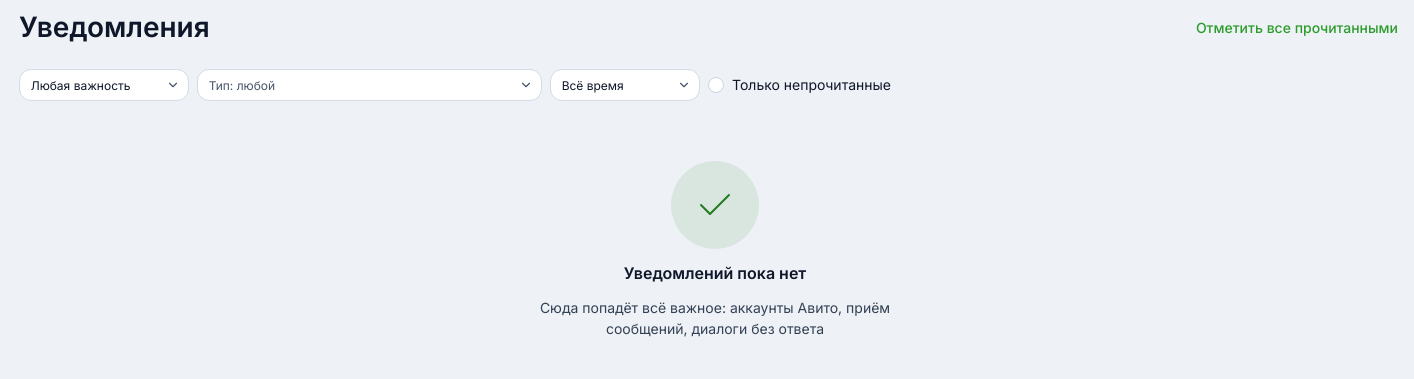
Журнал помнит фильтры (NOTIF-04) › выбор фильтра попадает в адрес — ссылку можно послать коллеге
Click the field named "Важность" at {"x": 104, "y": 85}, box [19,69,189,101]
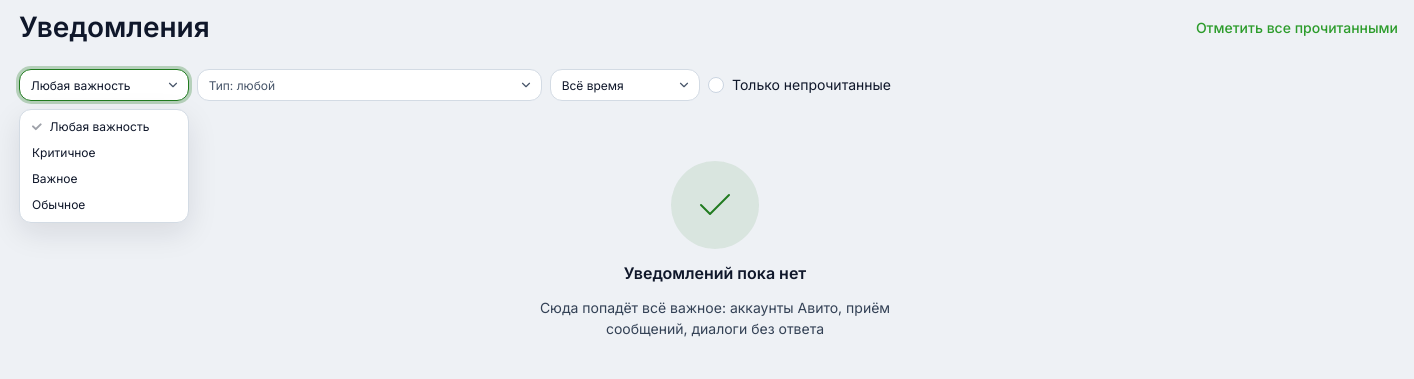
Click the option "Критичное" at {"x": 64, "y": 152}, box [32,145,96,160]
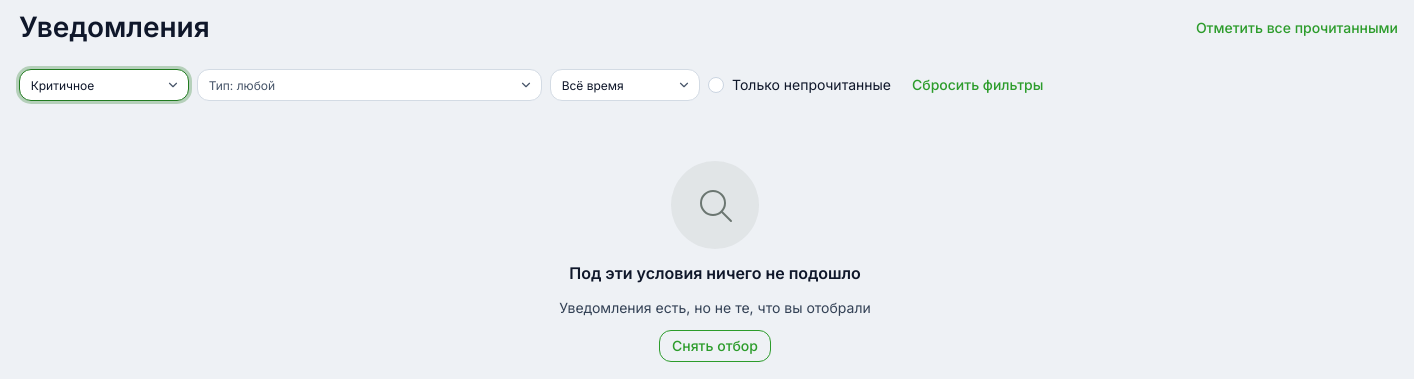
Expected: the button "Сбросить фильтры" is shown
Click the button "Сбросить фильтры" at {"x": 978, "y": 85}, box [899,69,1056,101]
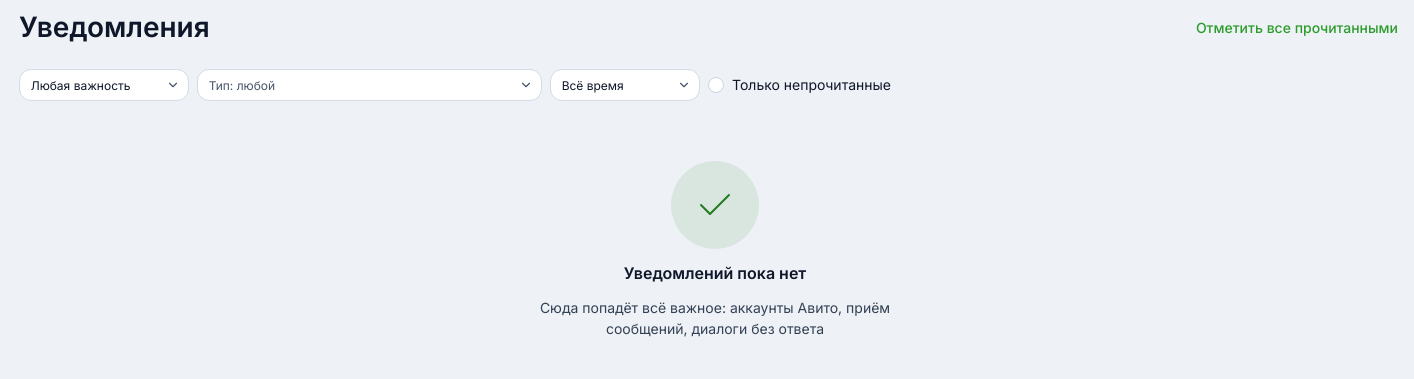
Expected: the button "Сбросить фильтры" is gone
